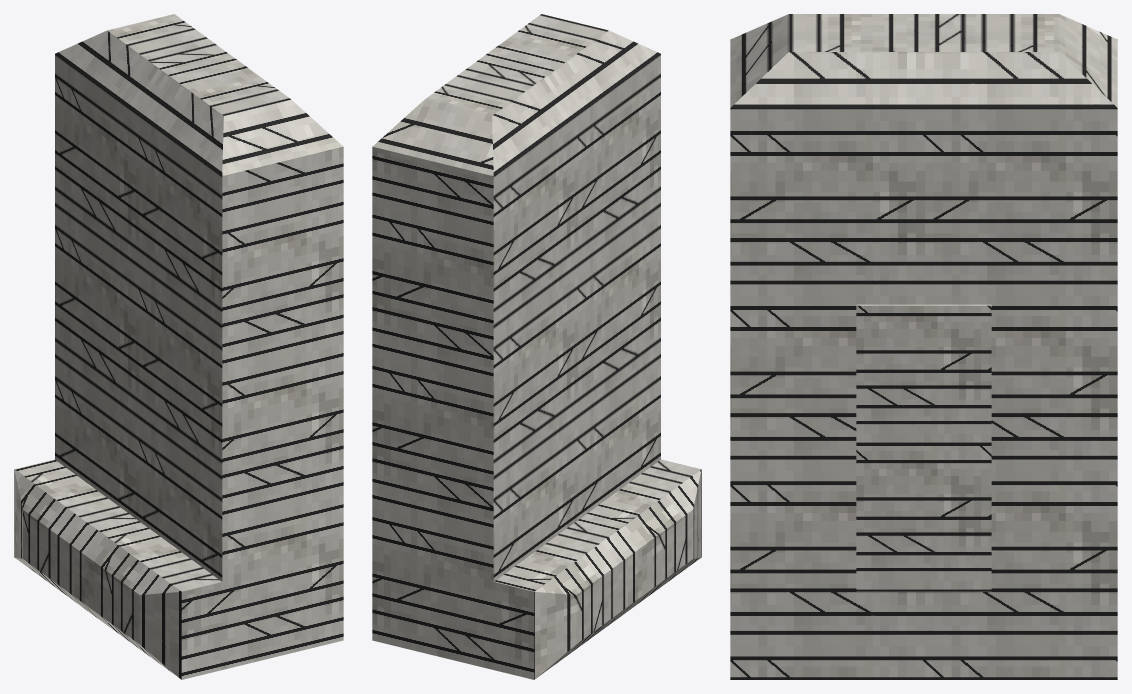
File: cast.glb
The picture shows the model from 3 angles, left to right: view 1: azimuth 30°, elevation 25°; view 2: azimuth 150°, elevation 25°; view 3: azimuth 270°, elevation 25°; orthographic projection. The views are drawn at different scales.
Visible parts, largest first — view 1: Cube.001; view 2: Cube.001; view 3: Cube.001, Cube.016.
Boxes of the visible parts, x1,y1,x2,y2 form: Cube.001: (14, 14, 343, 679); Cube.001: (372, 14, 701, 679); Cube.001: (730, 14, 1117, 679); Cube.016: (856, 304, 991, 591).
Bounding box in the file's own units: 0.5317 × 1.5 × 0.86.
2 materials, 2 textured.
